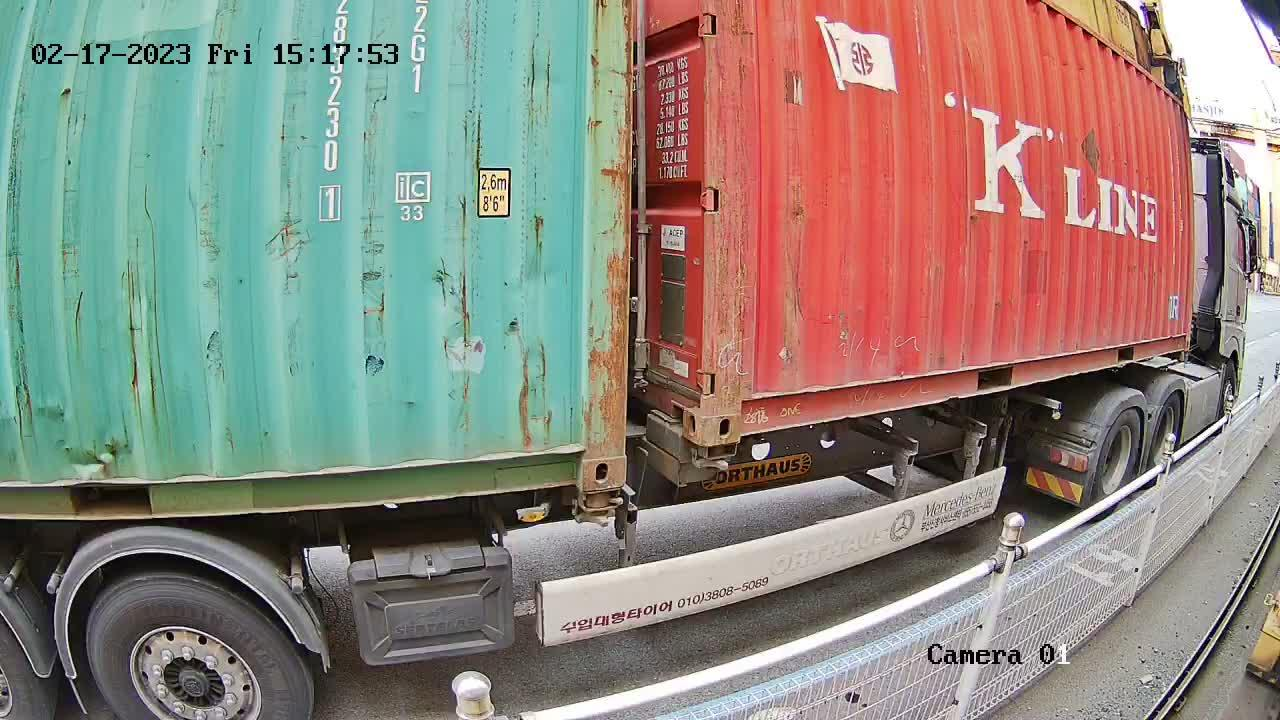Cone: (570, 488, 623, 531), (688, 440, 740, 472)
Hole_L: (701, 368, 770, 445)
Hole_R: (543, 425, 626, 497), (660, 364, 701, 442)
Tire: (87, 577, 311, 718), (1090, 407, 1142, 519), (1149, 393, 1183, 479)
